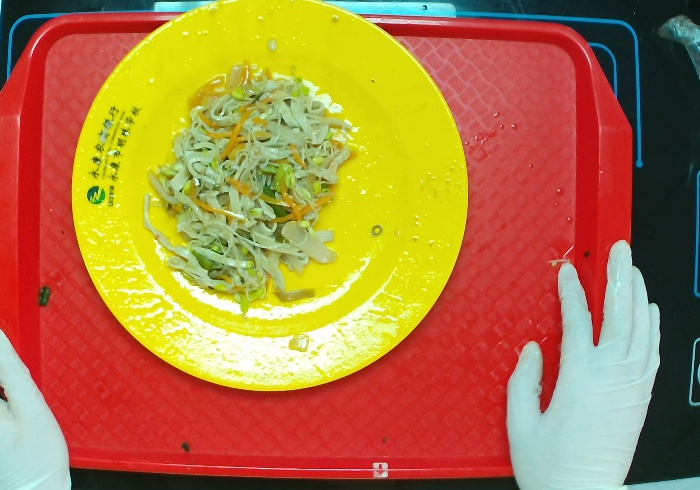YKMZ-Huang_Se_Mian_Pan: (67, 1, 472, 400)
